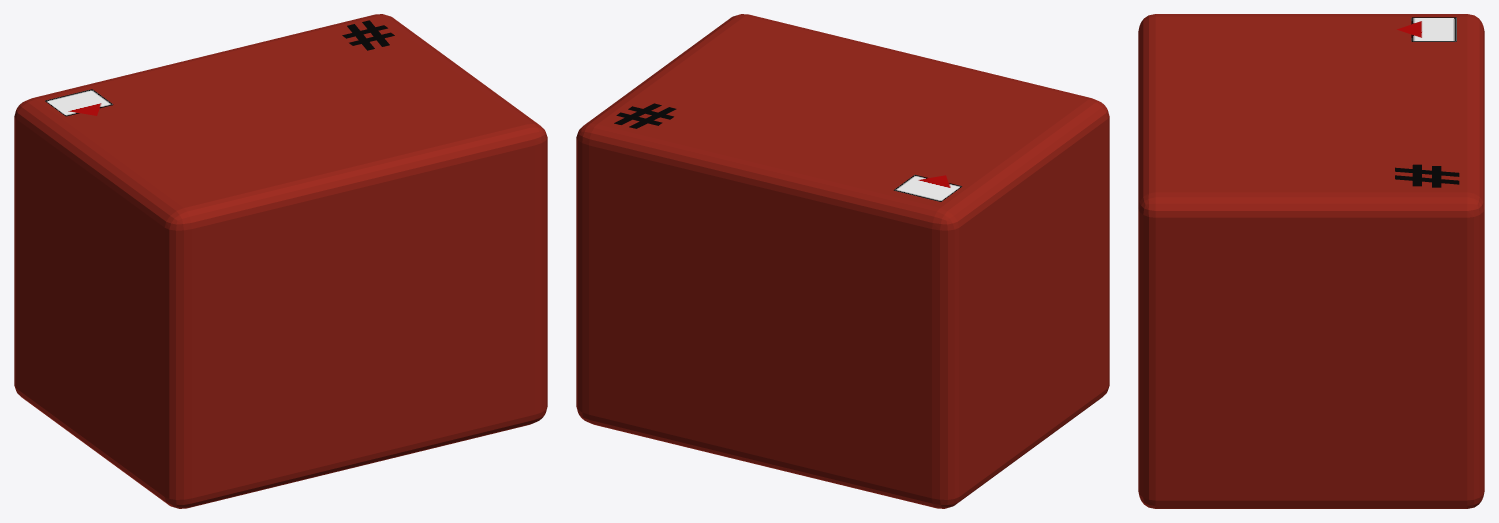
The model's file is StateROT_Highlight_Hashtag.dae.
The picture shows the model from 3 angles, left to right: view 1: azimuth 30°, elevation 25°; view 2: azimuth 150°, elevation 25°; view 3: azimuth 270°, elevation 25°; orthographic projection. The views are drawn at different scales.
Parts seen in each view (by area): view 1: Cube, Plane, Plane_001; view 2: Cube, Plane, Plane_001; view 3: Cube, Plane, Plane_001.
Part boxes in pixels (x1,y1,x2,y2): Cube: (14, 14, 547, 508); Plane: (45, 89, 113, 116); Plane_001: (342, 20, 394, 50); Cube: (576, 14, 1109, 508); Plane: (893, 174, 961, 201); Plane_001: (614, 103, 676, 128); Cube: (1138, 14, 1484, 508); Plane: (1397, 17, 1456, 41); Plane_001: (1395, 164, 1459, 187).
Bounding box in the file's own units: 2 × 1.5 × 1.51.
Materials: 3 (2 with a texture image).
